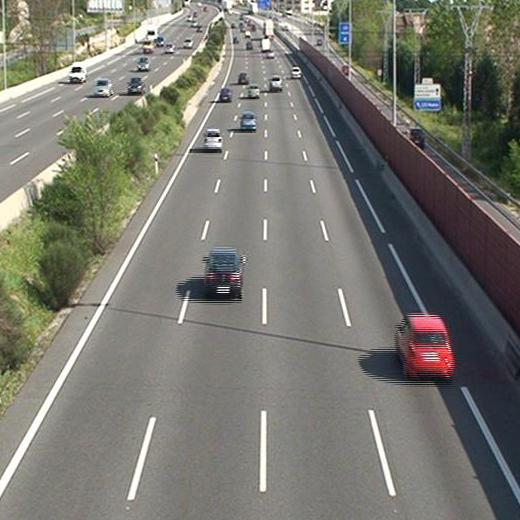car: (397, 316, 454, 376), (204, 249, 242, 294), (203, 128, 221, 148), (240, 112, 256, 129), (219, 88, 232, 100), (269, 77, 281, 89), (247, 85, 259, 96), (291, 66, 301, 77), (237, 72, 247, 82)
